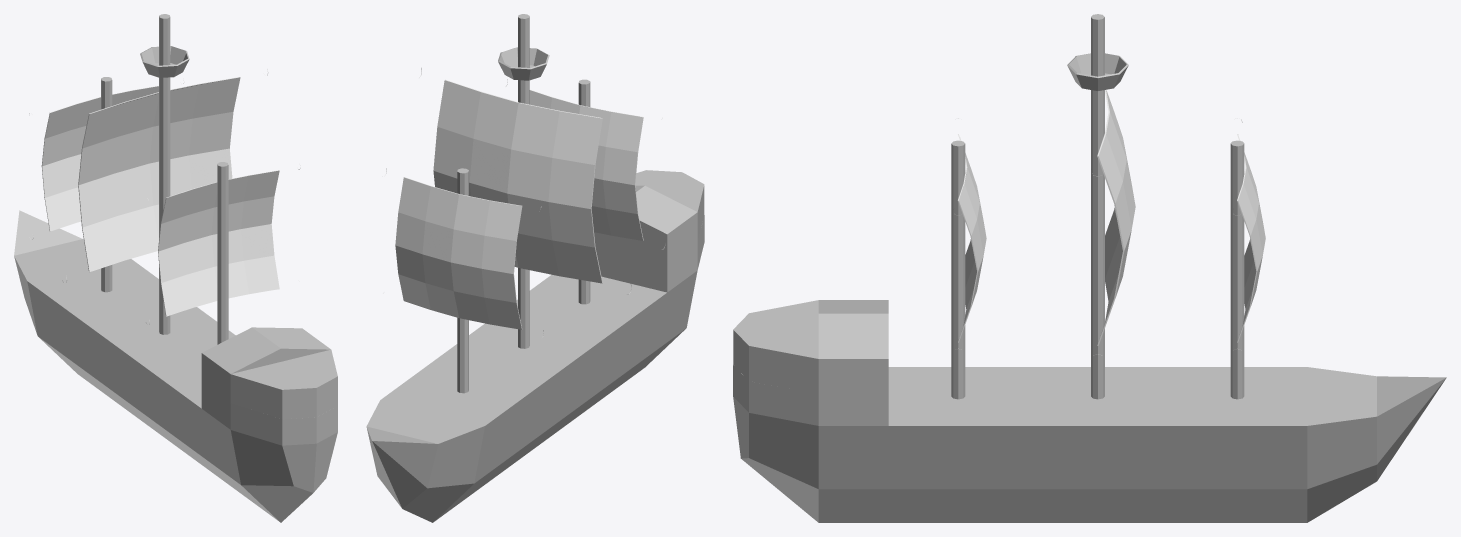
The model's file is CommandShip.fbx.
3 views of the same model, side by side, from view 1: azimuth 30°, elevation 25°; view 2: azimuth 150°, elevation 25°; view 3: azimuth 270°, elevation 25° (orthographic). The views are drawn at different scales.
Visible parts, largest first — view 1: Body, Sail, Sail_back, CommandCenter, Sail_front; view 2: Body, Sail, Sail_front, Sail_back, CommandCenter; view 3: Body, CommandCenter, Sail, Sail_front, Sail_back.
Boxes of the visible parts, x1=… form: Body: x1=14, y1=14, x2=337, y2=522; Sail: x1=62, y1=68, x2=268, y2=282; Sail_back: x1=146, y1=165, x2=300, y2=324; CommandCenter: x1=201, y1=327, x2=337, y2=419; Sail_front: x1=29, y1=79, x2=184, y2=239; Body: x1=366, y1=14, x2=704, y2=522; Sail: x1=419, y1=68, x2=631, y2=294; Sail_front: x1=383, y1=168, x2=543, y2=337; Sail_back: x1=506, y1=79, x2=665, y2=249; CommandCenter: x1=594, y1=170, x2=704, y2=264; Body: x1=733, y1=14, x2=1446, y2=522; CommandCenter: x1=733, y1=300, x2=888, y2=394; Sail: x1=1092, y1=90, x2=1135, y2=355; Sail_front: x1=1237, y1=118, x2=1265, y2=349; Sail_back: x1=954, y1=118, x2=986, y2=348.
Size of the model in its own units: 400 by 800 by 1023.
